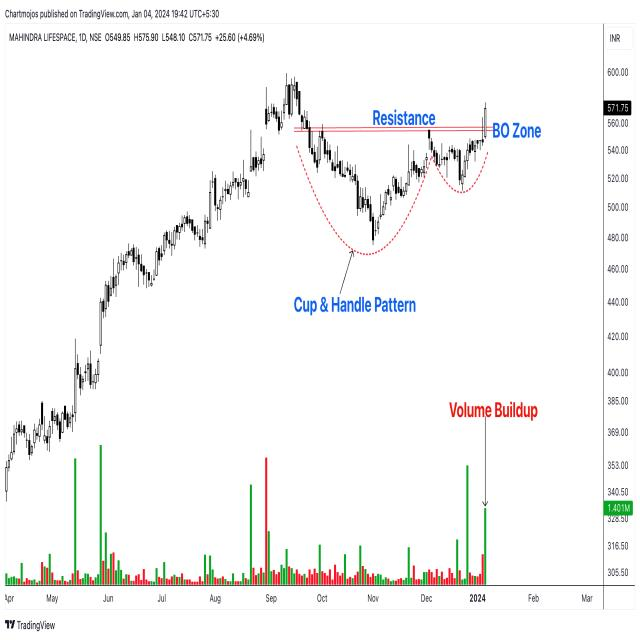Cup-and-handle: (300, 128, 492, 250)
